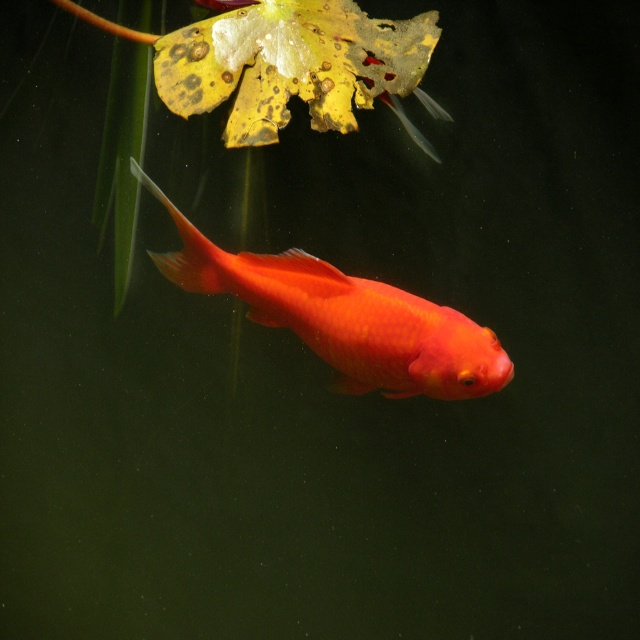Goldfish: (128, 157, 511, 398)
